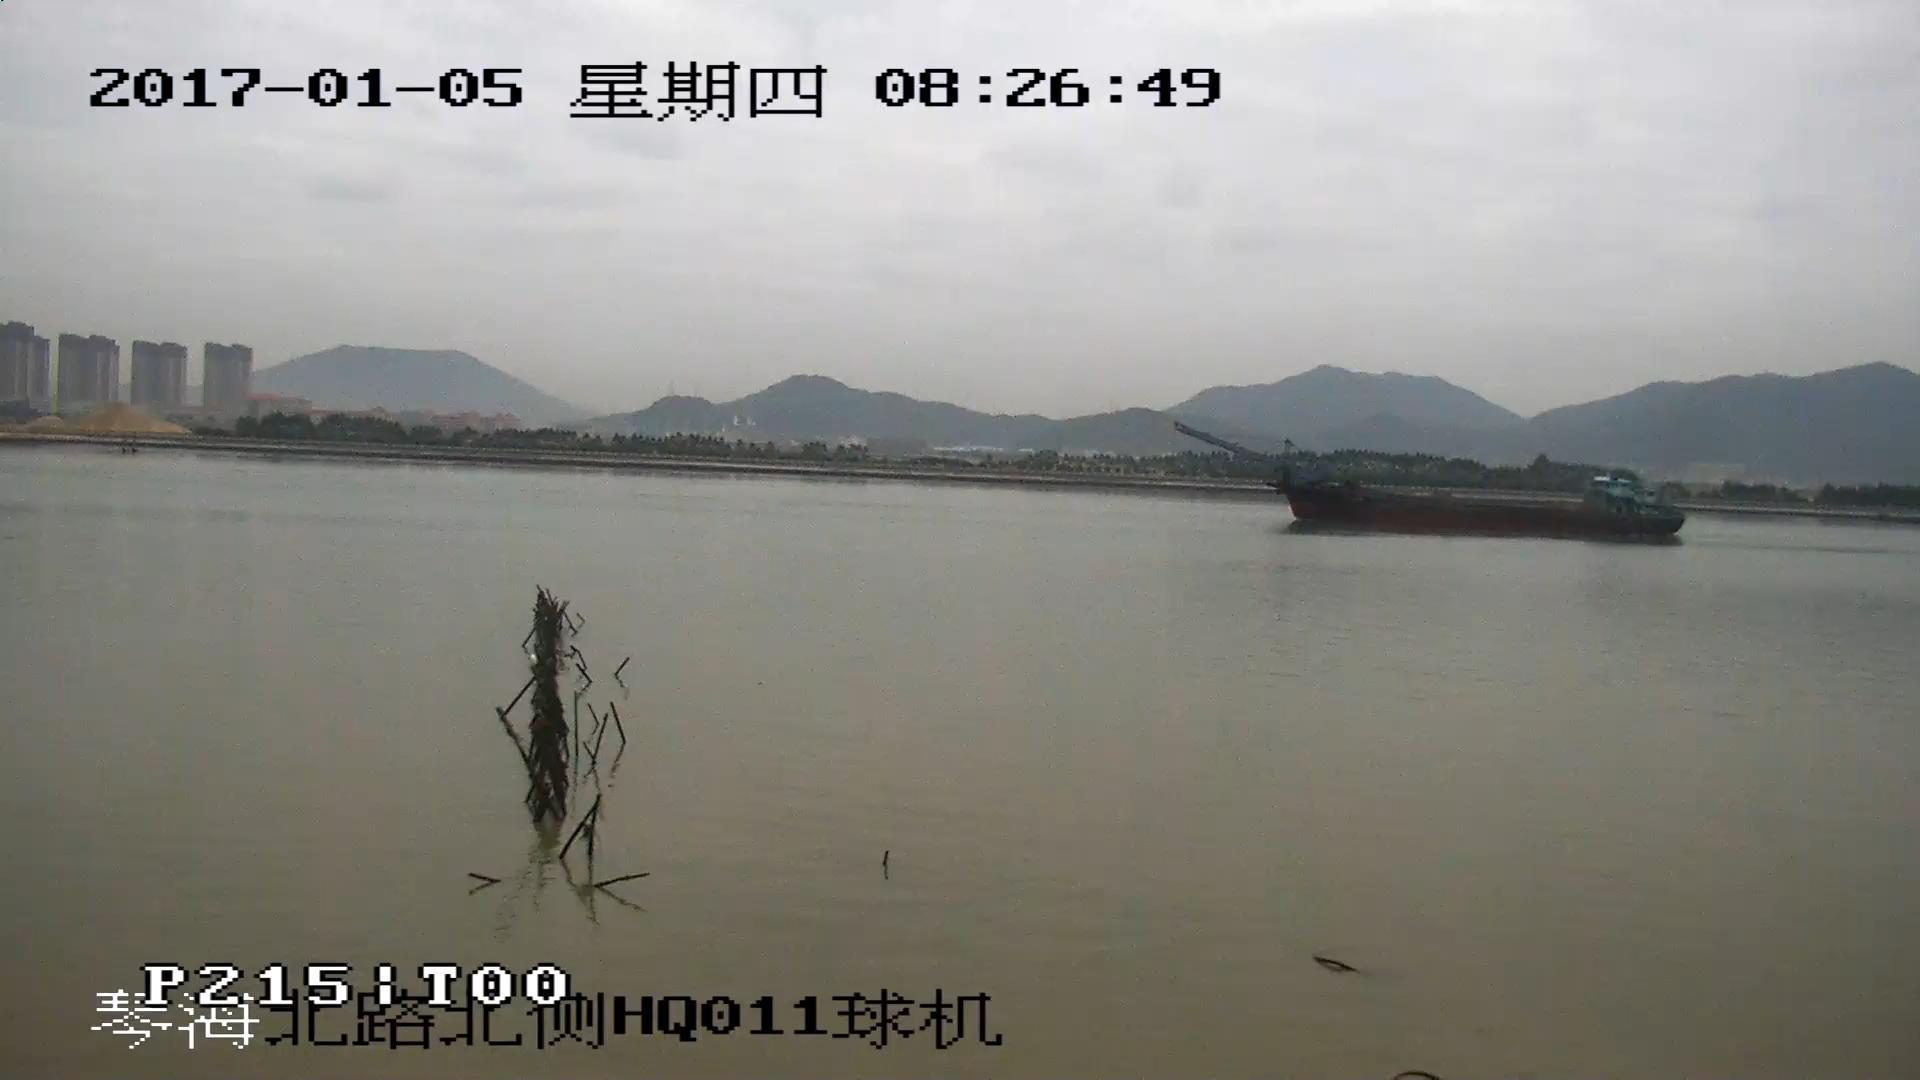Ship: (1178, 425, 1683, 542)
